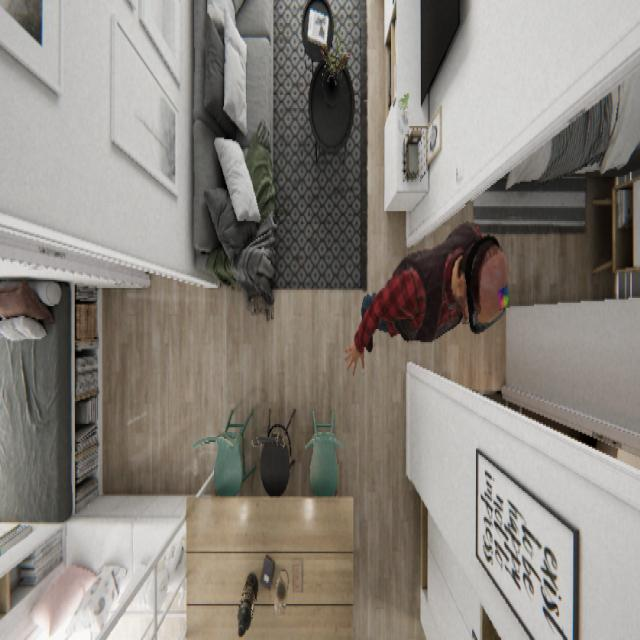Colored-Marker: (497, 280, 510, 311)
Human: (343, 218, 510, 376)
